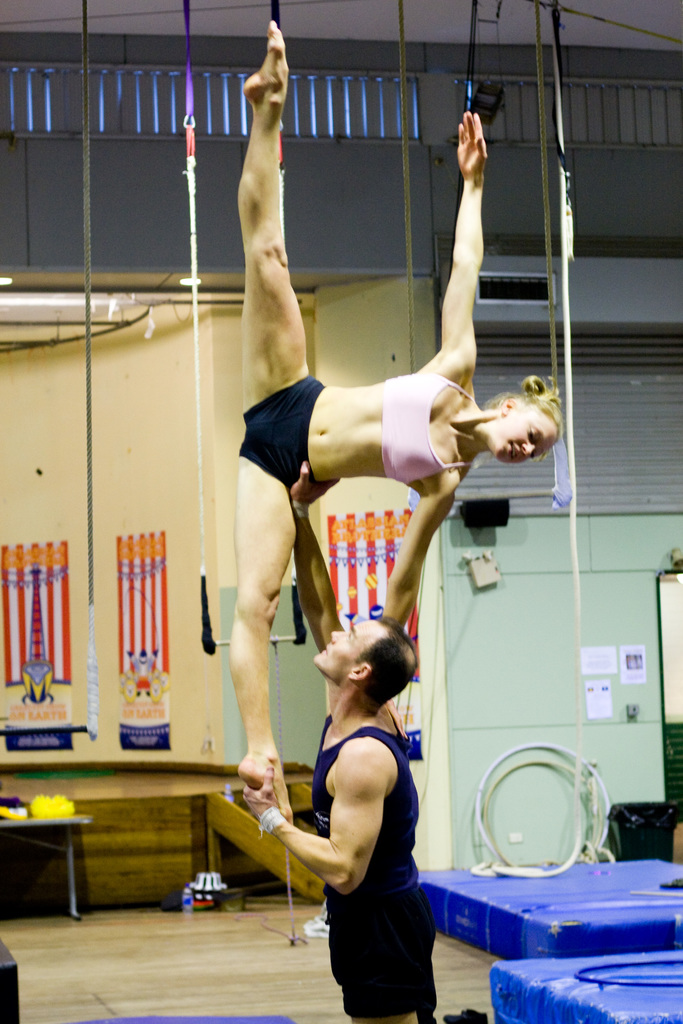Person: (242, 616, 436, 1024)
